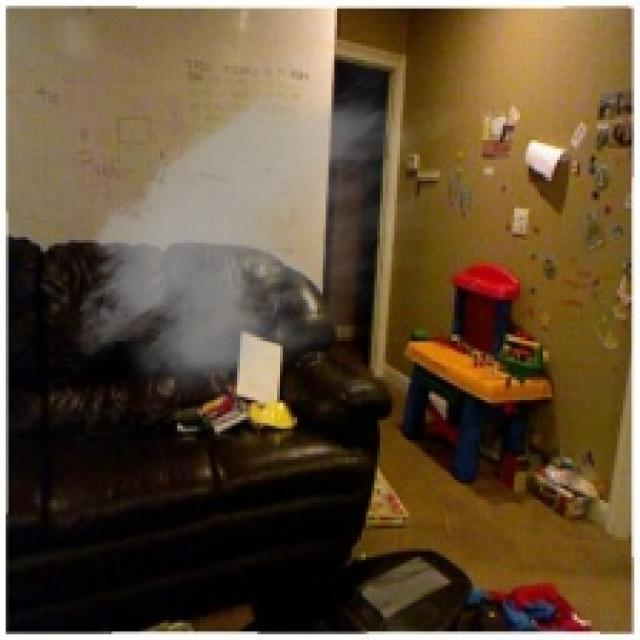smoke: (63, 52, 474, 414)
